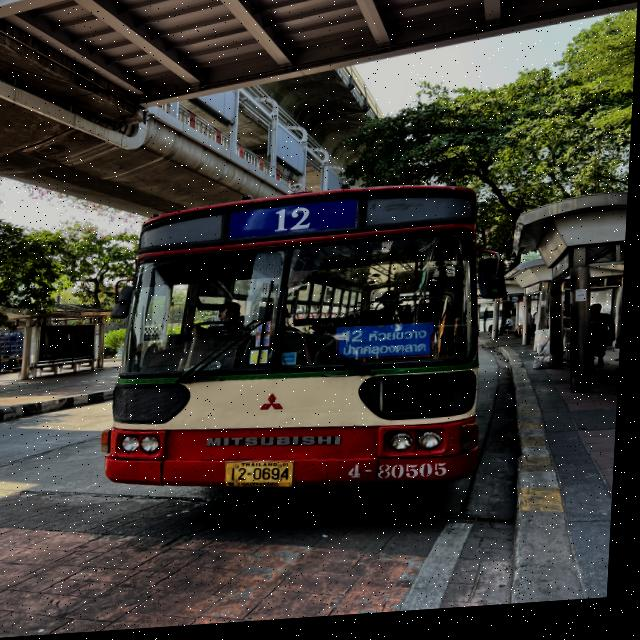BMTA-bus: (107, 191, 488, 499)
Bus Line Number: (228, 203, 363, 242)
Bus Side Number: (344, 459, 460, 496)
Destination Sign: (335, 326, 444, 368)
